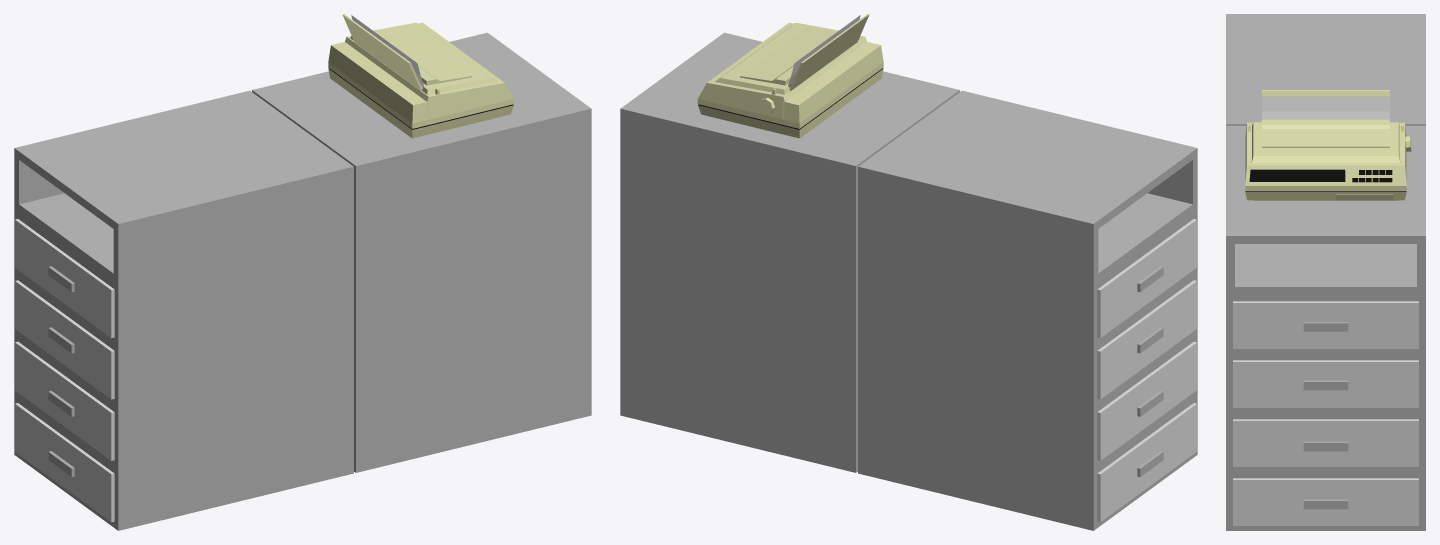
Rendered from Set Printer.fbx.
The picture shows the model from 3 angles, left to right: view 1: azimuth 30°, elevation 25°; view 2: azimuth 150°, elevation 25°; view 3: azimuth 270°, elevation 25°; orthographic projection. The views are drawn at different scales.
Parts seen in each view (by area): view 1: Plane.013, Plane.023; view 2: Plane.013, Plane.023; view 3: Plane.013, Plane.023.
Boxes of the visible parts, box(x1,y1,x2,y2) form: Plane.013: box(14, 32, 591, 530); Plane.023: box(328, 14, 514, 138); Plane.013: box(620, 32, 1197, 530); Plane.023: box(697, 14, 883, 138); Plane.013: box(1226, 14, 1425, 530); Plane.023: box(1245, 90, 1411, 200).
Bounding box in the file's own units: 1410 × 1051 × 523.
